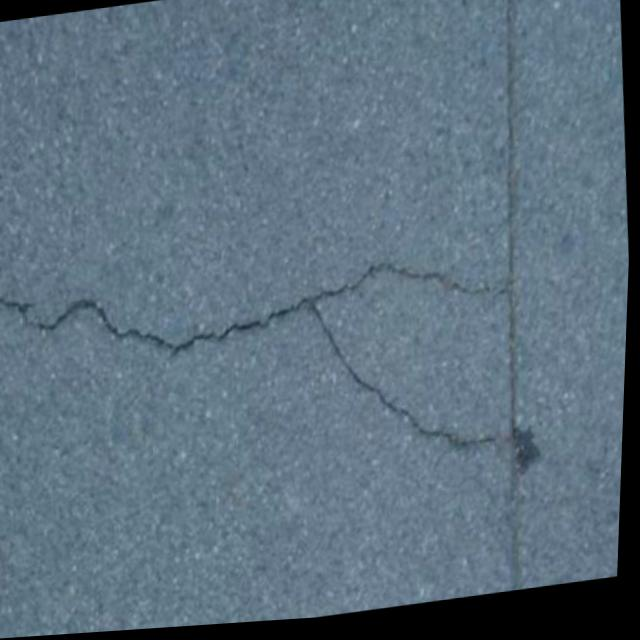Crack: (0, 218, 553, 524)
